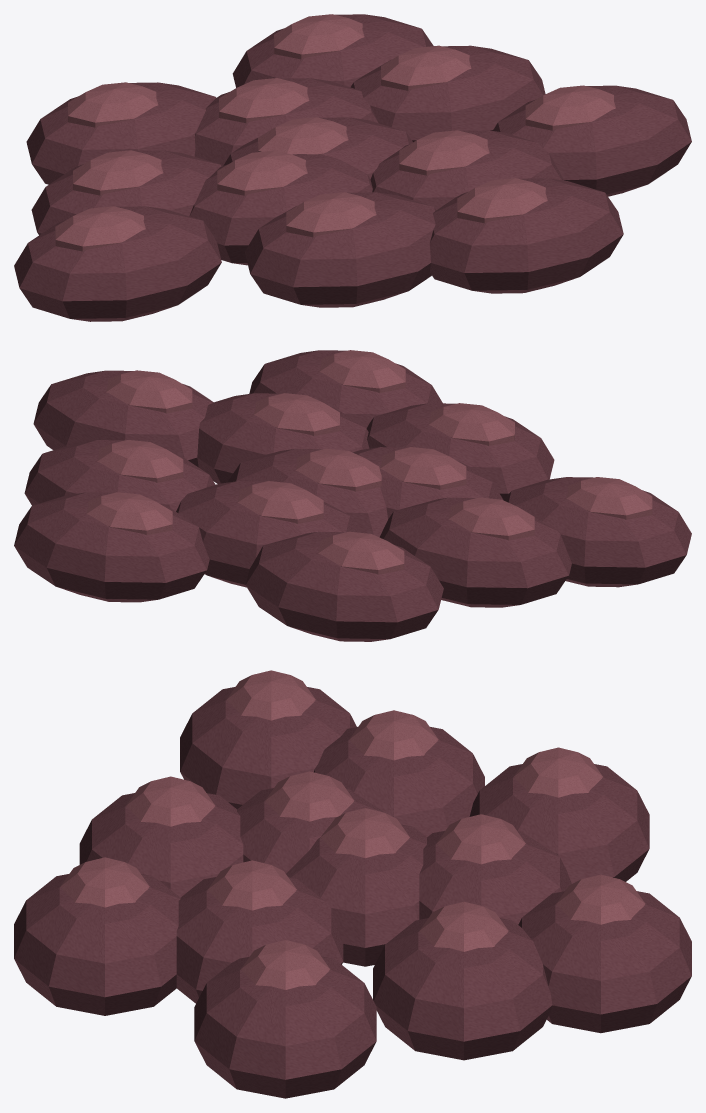
The model's file is leaked_filling.obj.
3 views of the same model, one above another, from view 1: azimuth 30°, elevation 25°; view 2: azimuth 150°, elevation 25°; view 3: azimuth 270°, elevation 25° (orthographic). The views are drawn at different scales.
Visible parts, largest first — view 1: leaked_filling; view 2: leaked_filling; view 3: leaked_filling.
Boxes of the visible parts, x1,y1,x2,y2 form: leaked_filling: (14, 14, 691, 321); leaked_filling: (14, 350, 691, 641); leaked_filling: (14, 670, 691, 1098).
Bounding box in the file's own units: 4.99 × 0.71 × 3.75.
1 material, 1 textured.
